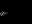person: (0, 9, 8, 17)
